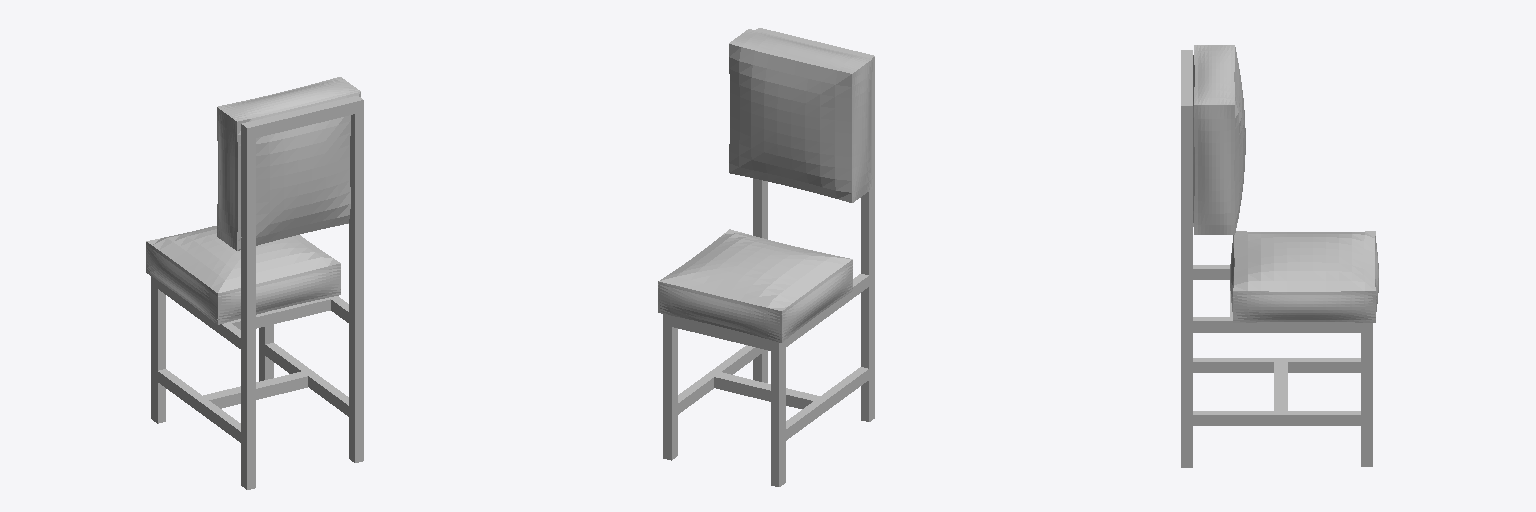
File: tchairblend.obj
3 renders of one model, left to right at view 1: azimuth 30°, elevation 25°; view 2: azimuth 150°, elevation 25°; view 3: azimuth 270°, elevation 25°, orthographic.
Visible parts, largest first — view 1: Cube.001, Cube.002, Cube, Cube.005, Cube.003, Cube.004; view 2: Cube.001, Cube, Cube.003, Cube.002, Cube.005, Cube.004; view 3: Cube, Cube.001, Cube.005, Cube.002, Cube.004, Cube.003.
Boxes of the visible parts, x1=… form: Cube.001: x1=217, y1=77, x2=360, y2=250; Cube.002: x1=241, y1=96, x2=363, y2=489; Cube: x1=146, y1=226, x2=340, y2=324; Cube.005: x1=158, y1=343, x2=348, y2=442; Cube.003: x1=151, y1=276, x2=273, y2=423; Cube.004: x1=157, y1=280, x2=348, y2=348; Cube.001: x1=729, y1=29, x2=872, y2=202; Cube: x1=658, y1=229, x2=852, y2=342; Cube.003: x1=663, y1=314, x2=785, y2=486; Cube.002: x1=753, y1=28, x2=874, y2=421; Cube.005: x1=678, y1=345, x2=868, y2=440; Cube.004: x1=786, y1=274, x2=868, y2=346; Cube: x1=1230, y1=231, x2=1378, y2=322; Cube.001: x1=1193, y1=45, x2=1245, y2=234; Cube.005: x1=1193, y1=358, x2=1360, y2=425; Cube.002: x1=1181, y1=50, x2=1192, y2=467; Cube.004: x1=1193, y1=265, x2=1360, y2=332; Cube.003: x1=1361, y1=323, x2=1372, y2=466.
Size of the model in its own units: 2.09 by 5.67 by 2.76.